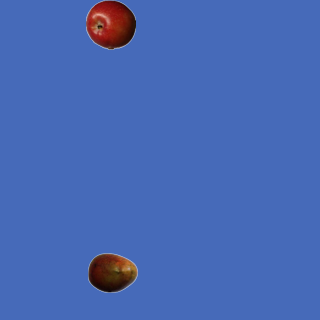Apple Braeburn: (85, 0, 135, 49)
Mango Red: (87, 247, 137, 297)
